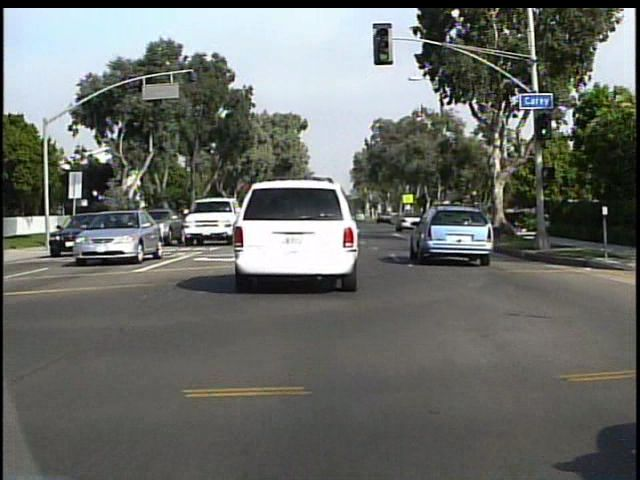car: (225, 177, 367, 284), (66, 210, 151, 265), (412, 207, 488, 264), (180, 197, 248, 244)
